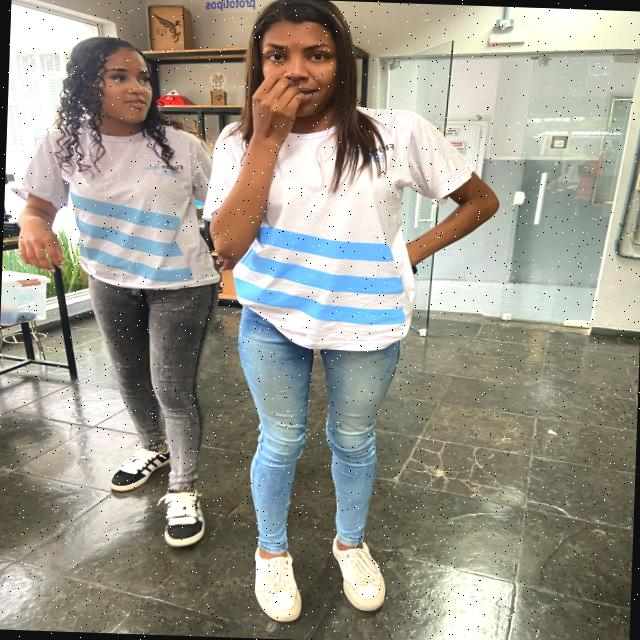SEM BOTA: (323, 532, 386, 617), (243, 540, 303, 623), (107, 441, 174, 493), (156, 487, 203, 544)
SEM LUVA: (247, 70, 307, 148), (14, 221, 64, 271), (209, 253, 238, 273)
